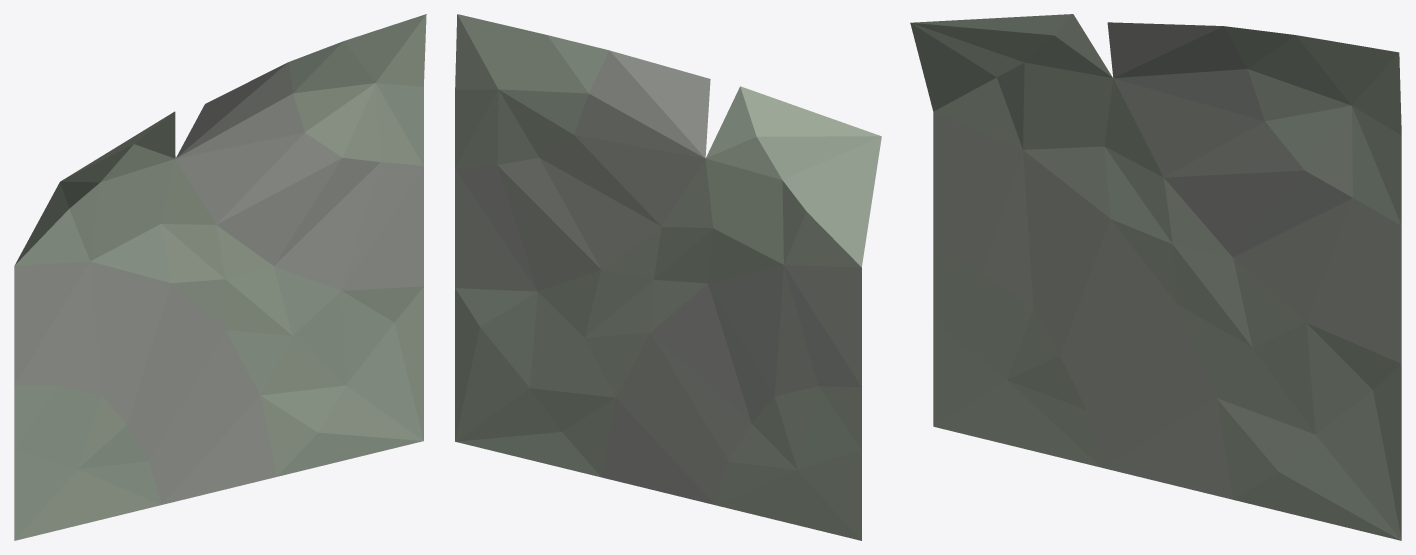
File: ColoredWallpapper_02.fbx
3 views of the same model, side by side, from view 1: azimuth 30°, elevation 25°; view 2: azimuth 150°, elevation 25°; view 3: azimuth 330°, elevation 25° (orthographic). The views are drawn at different scales.
Parts seen in each view (by area): view 1: ColoredWallpapper_02; view 2: ColoredWallpapper_02; view 3: ColoredWallpapper_02.
Part boxes in pixels (x1,y1,x2,y2): ColoredWallpapper_02: (14,14,426,540); ColoredWallpapper_02: (455,14,881,540); ColoredWallpapper_02: (910,14,1401,540).
Bounding box in the file's own units: 100 × 100 × 14.87.
1 material, 1 textured.
